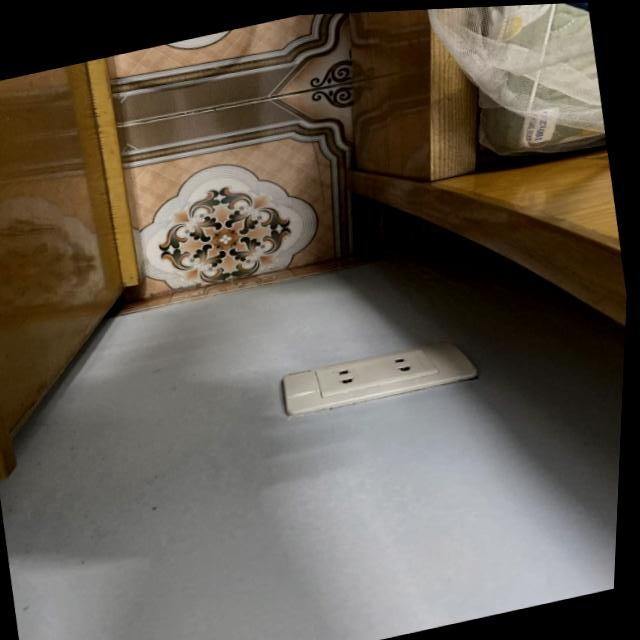outlet: (279, 331, 482, 419)
